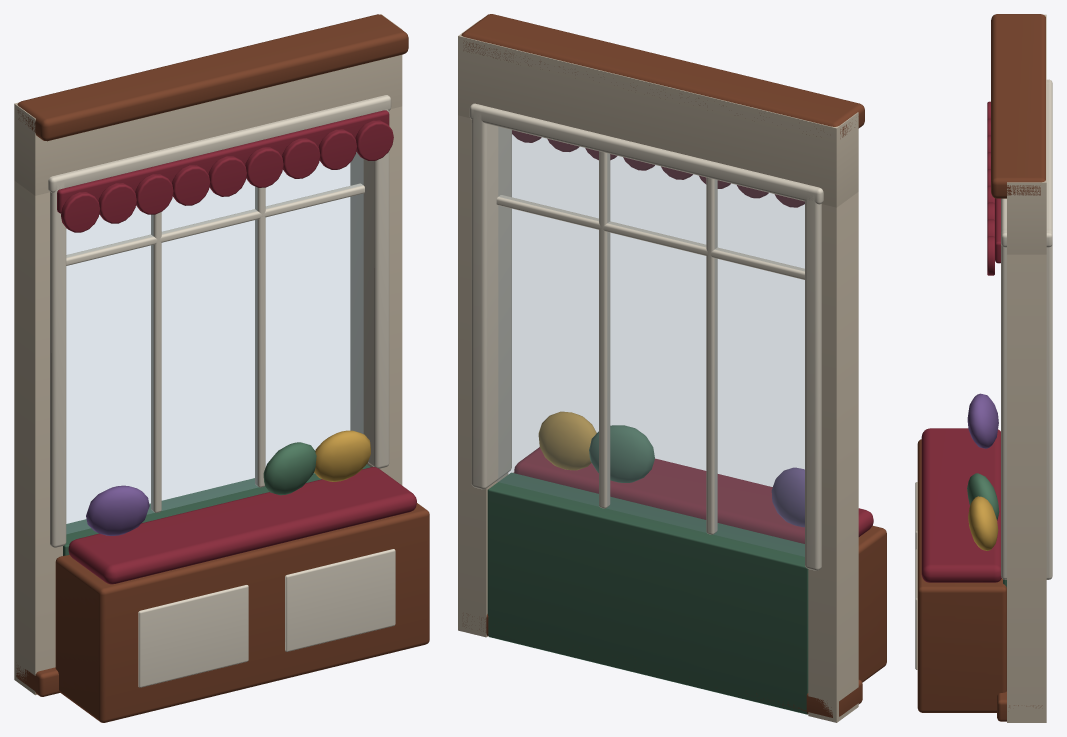
File: wall-shopfront.glb
3 renders of one model, left to right at view 1: azimuth 30°, elevation 25°; view 2: azimuth 150°, elevation 25°; view 3: azimuth 270°, elevation 25°, orthographic. The views are drawn at different scales.
Visible parts, largest first — view 1: wall-shopfront; view 2: wall-shopfront; view 3: wall-shopfront.
Part boxes in pixels (x1,y1,x2,y2): wall-shopfront: (14, 14, 429, 722); wall-shopfront: (458, 14, 886, 722); wall-shopfront: (915, 14, 1052, 722).
Bounding box in the file's own units: 2 × 3.01 × 0.692.
